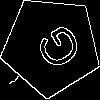G: (26, 21, 85, 79)
